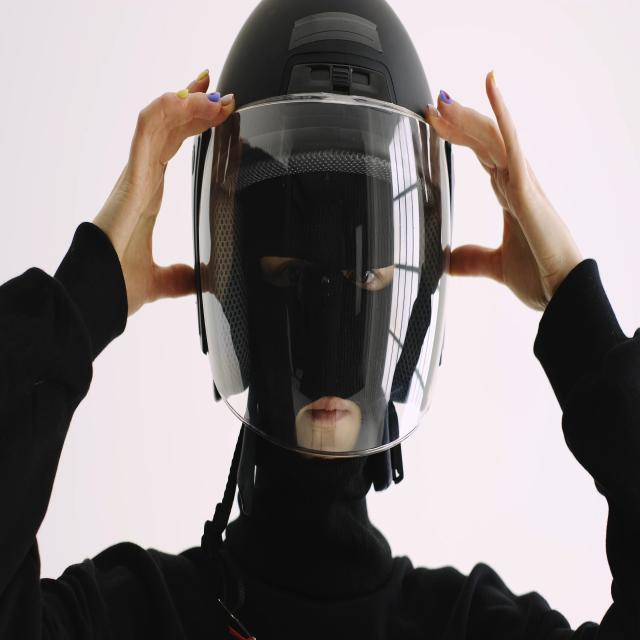Helmet_Wearer: (194, 0, 454, 565)
Person: (1, 1, 640, 640)
